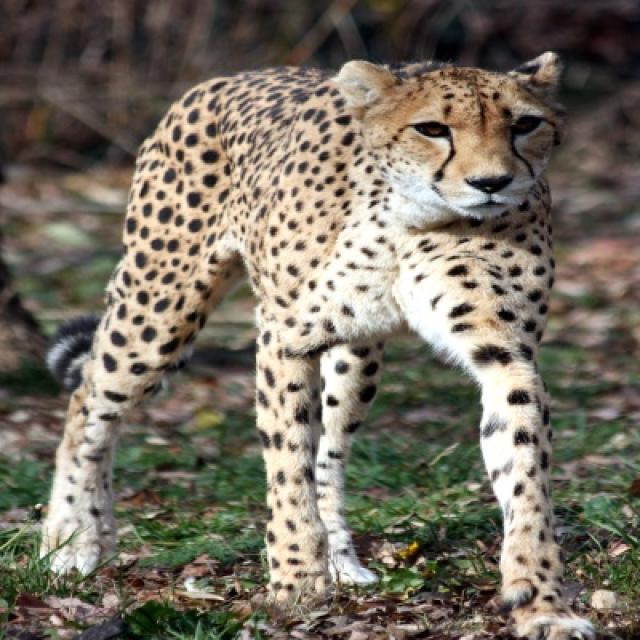Cheetah: (40, 51, 565, 638)
